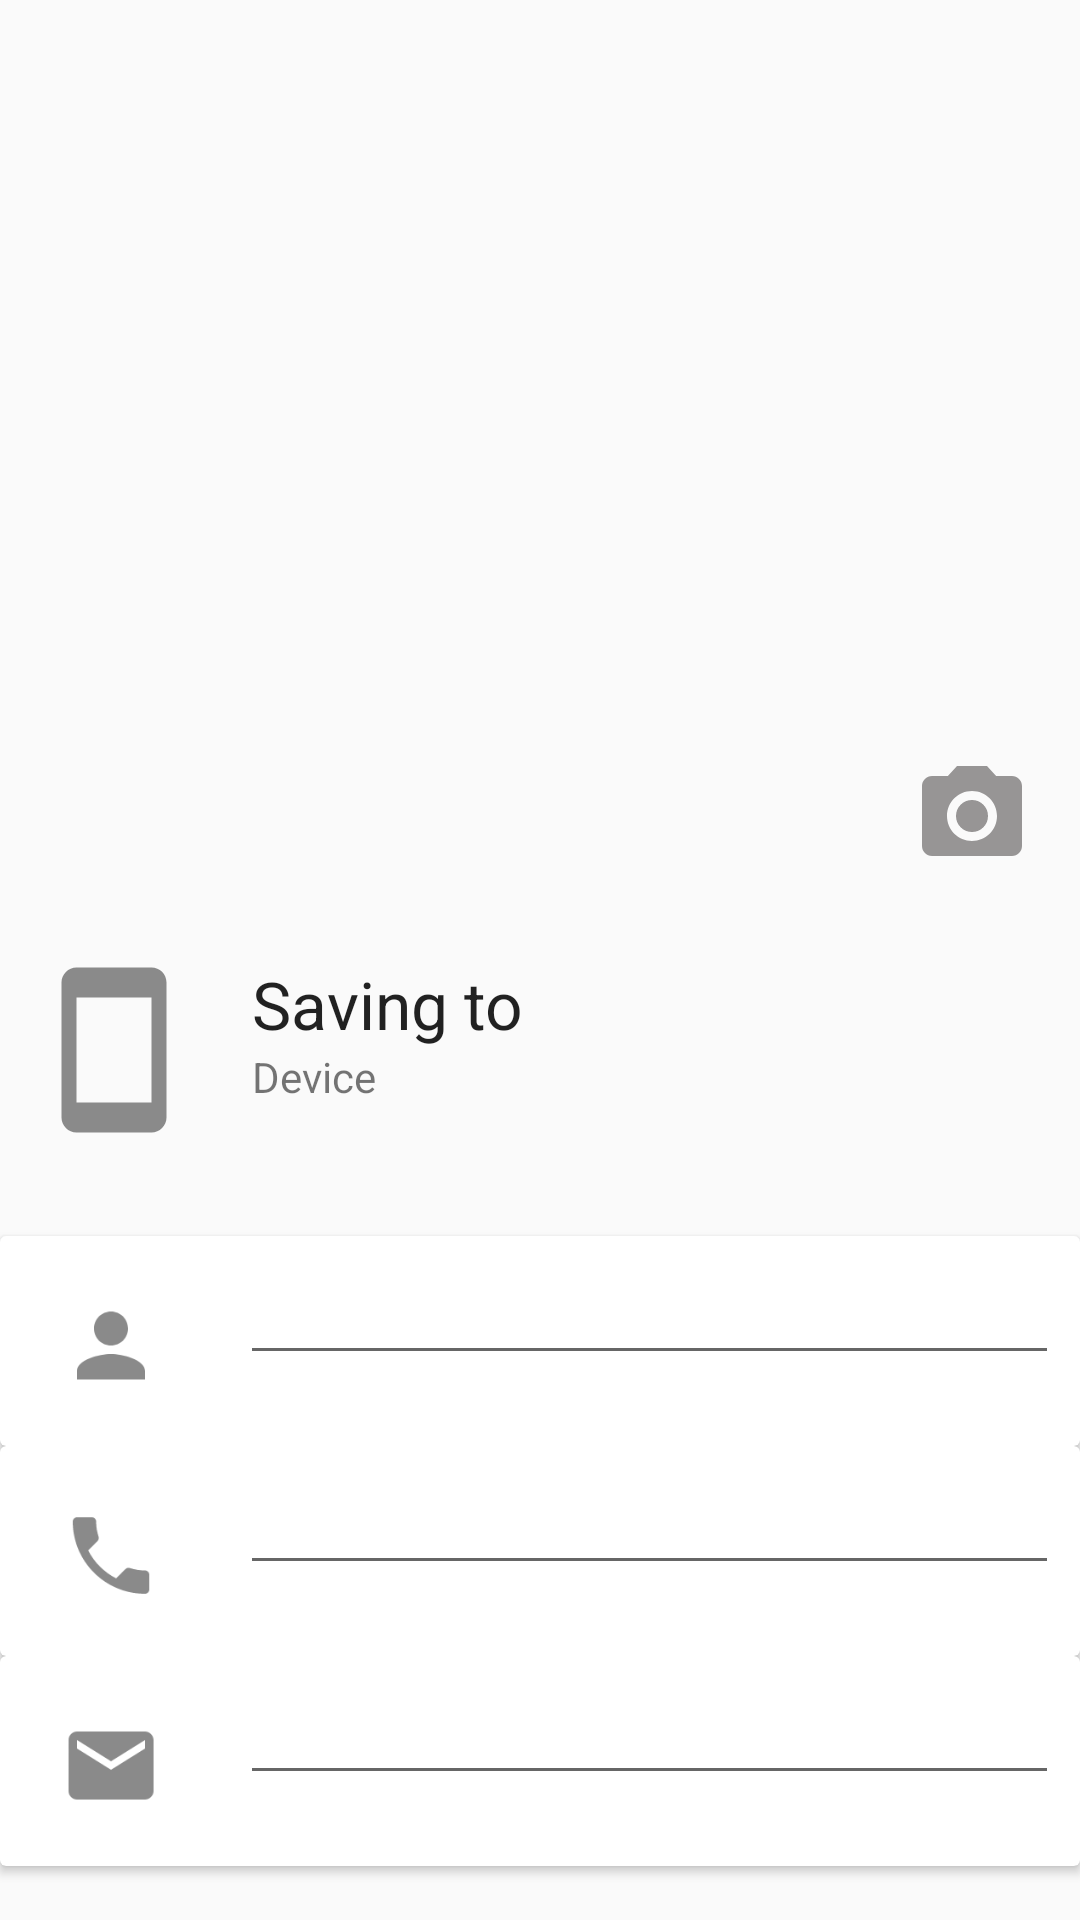

Icon click points for this 1080w x 1920h phone screenshot, format point (x, y):
camera: point (972, 811)
email: point (111, 1765)
person: point (111, 1345)
phone: point (111, 1555)
smartphone: point (114, 1050)
